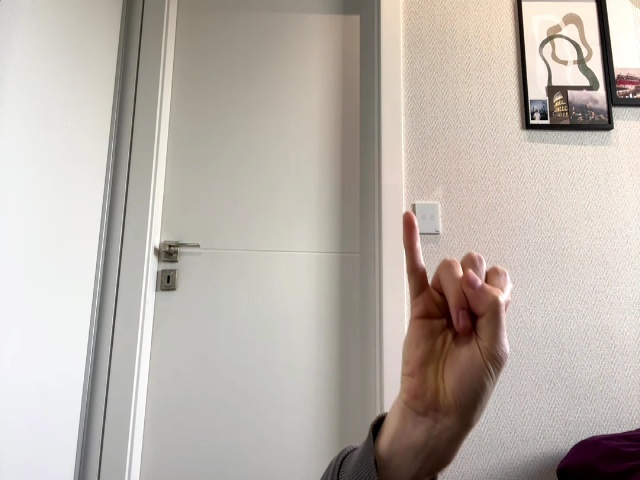I: (403, 211, 513, 408)
